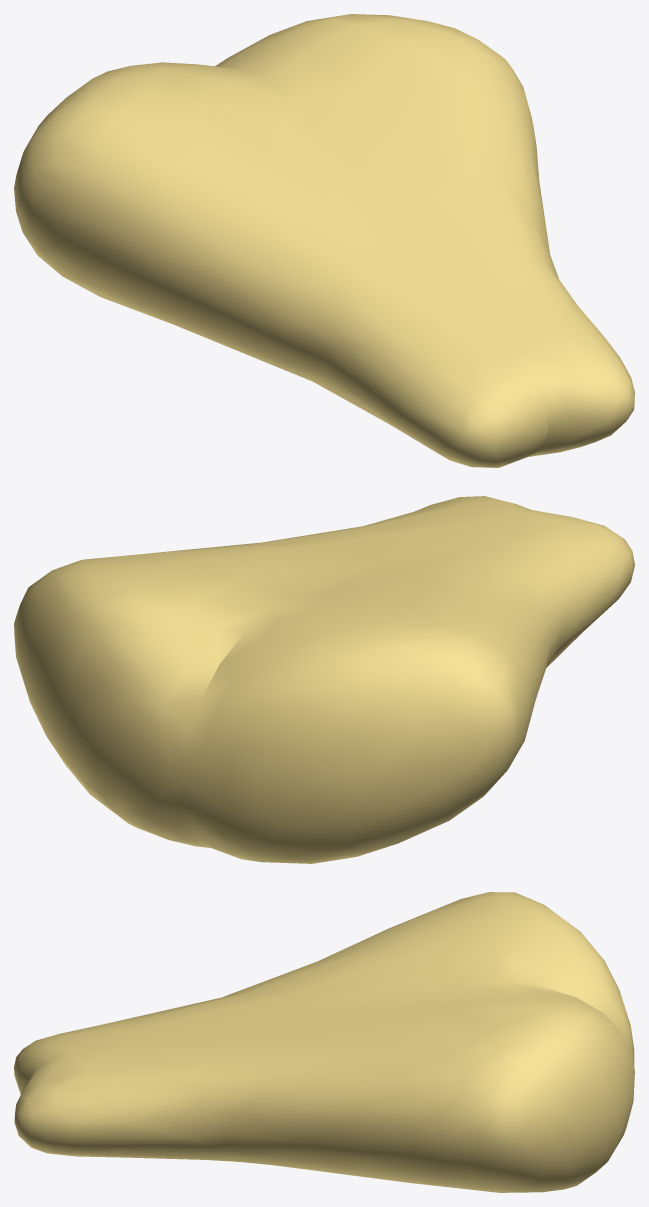
3 views of the same model, one above another, from view 1: azimuth 30°, elevation 25°; view 2: azimuth 150°, elevation 25°; view 3: azimuth 270°, elevation 25° (orthographic). The views are drawn at different scales.
Parts seen in each view (by area): view 1: ZA_767d764f67787260; view 2: ZA_767d764f67787260; view 3: ZA_767d764f67787260.
Boxes of the visible parts, left/top/right/bottom form: ZA_767d764f67787260: left=14, top=14, right=634, bottom=467; ZA_767d764f67787260: left=14, top=496, right=634, bottom=863; ZA_767d764f67787260: left=14, top=892, right=634, bottom=1192.
Size of the model in its own units: 0.0133 by 0.00608 by 0.0172.
